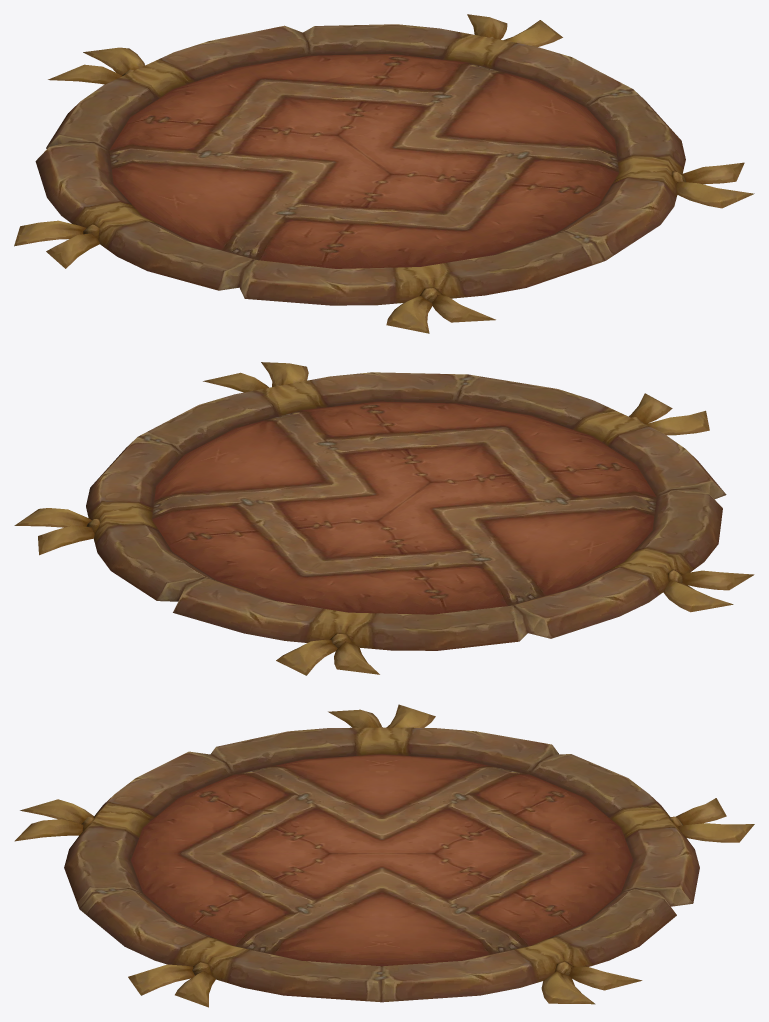
The picture shows the model from 3 angles, top to bottom: view 1: azimuth 30°, elevation 25°; view 2: azimuth 150°, elevation 25°; view 3: azimuth 270°, elevation 25°; orthographic projection. The views are drawn at different scales.
Size of the model in its own units: 6.14 by 0.1338 by 6.34.
1 material, 1 textured.
